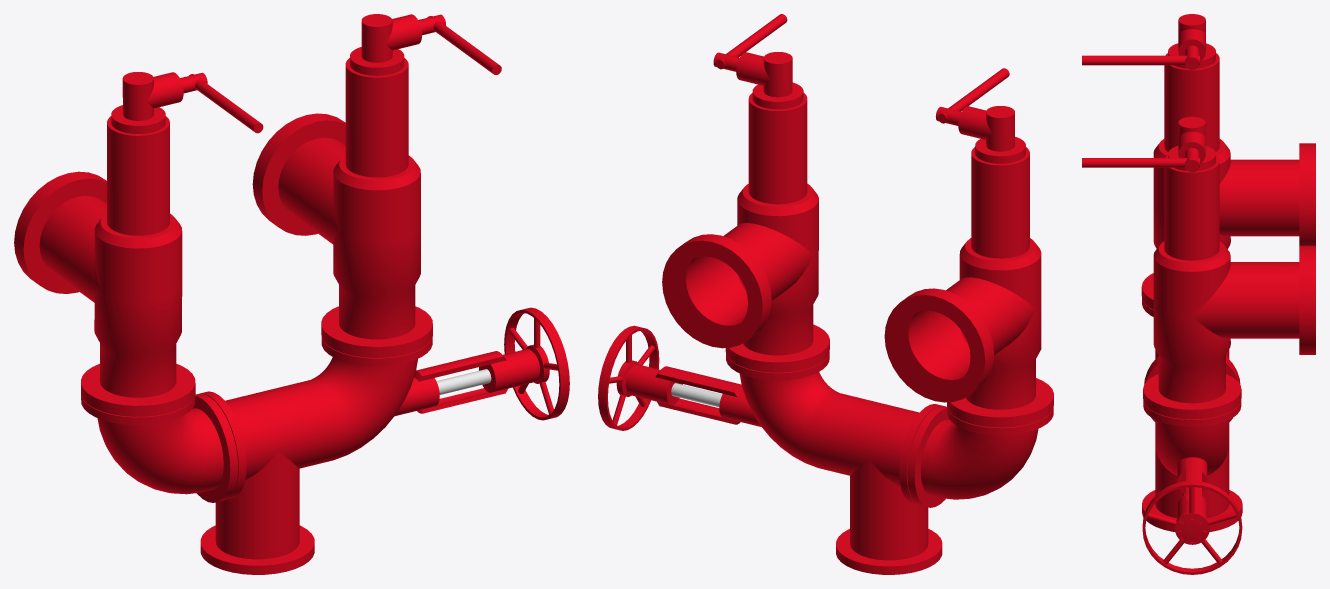
Rendered from Pipe.fbx.
3 renders of one model, left to right at view 1: azimuth 30°, elevation 25°; view 2: azimuth 150°, elevation 25°; view 3: azimuth 270°, elevation 25°, orthographic. The views are drawn at different scales.
Parts seen in each view (by area): view 1: OsnovaPipe, Valve, Lever.001, Lever; view 2: OsnovaPipe, Valve, Lever.001, Lever; view 3: OsnovaPipe, Valve, Lever.001, Lever.
Boxes of the visible parts, <box> form: OsnovaPipe: <box>14,14,539,574</box>; Valve: <box>436,307,569,420</box>; Lever.001: <box>180,72,263,133</box>; Lever: <box>418,14,501,74</box>; OsnovaPipe: <box>626,52,1053,574</box>; Valve: <box>598,325,722,430</box>; Lever.001: <box>935,68,1009,125</box>; Lever: <box>713,14,787,71</box>; OsnovaPipe: <box>1141,14,1315,531</box>; Valve: <box>1142,473,1242,574</box>; Lever.001: <box>1082,45,1199,69</box>; Lever: <box>1082,148,1199,172</box>.
Size of the model in its own units: 232 by 244 by 117.
